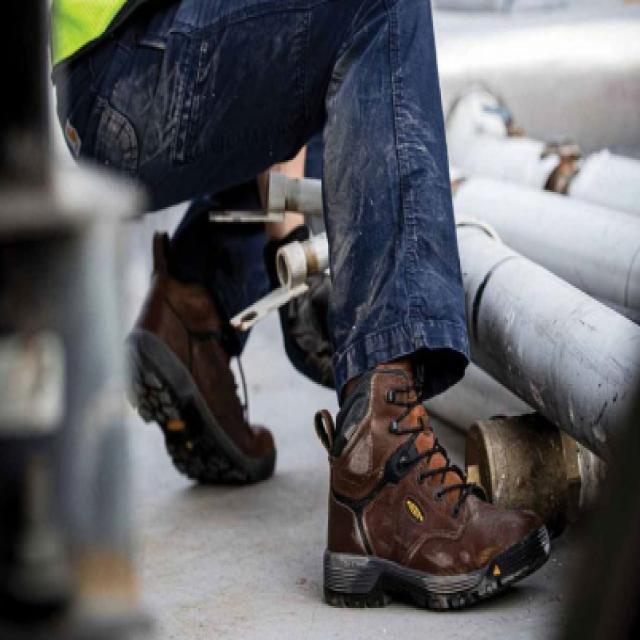shoes: (116, 220, 559, 614)
